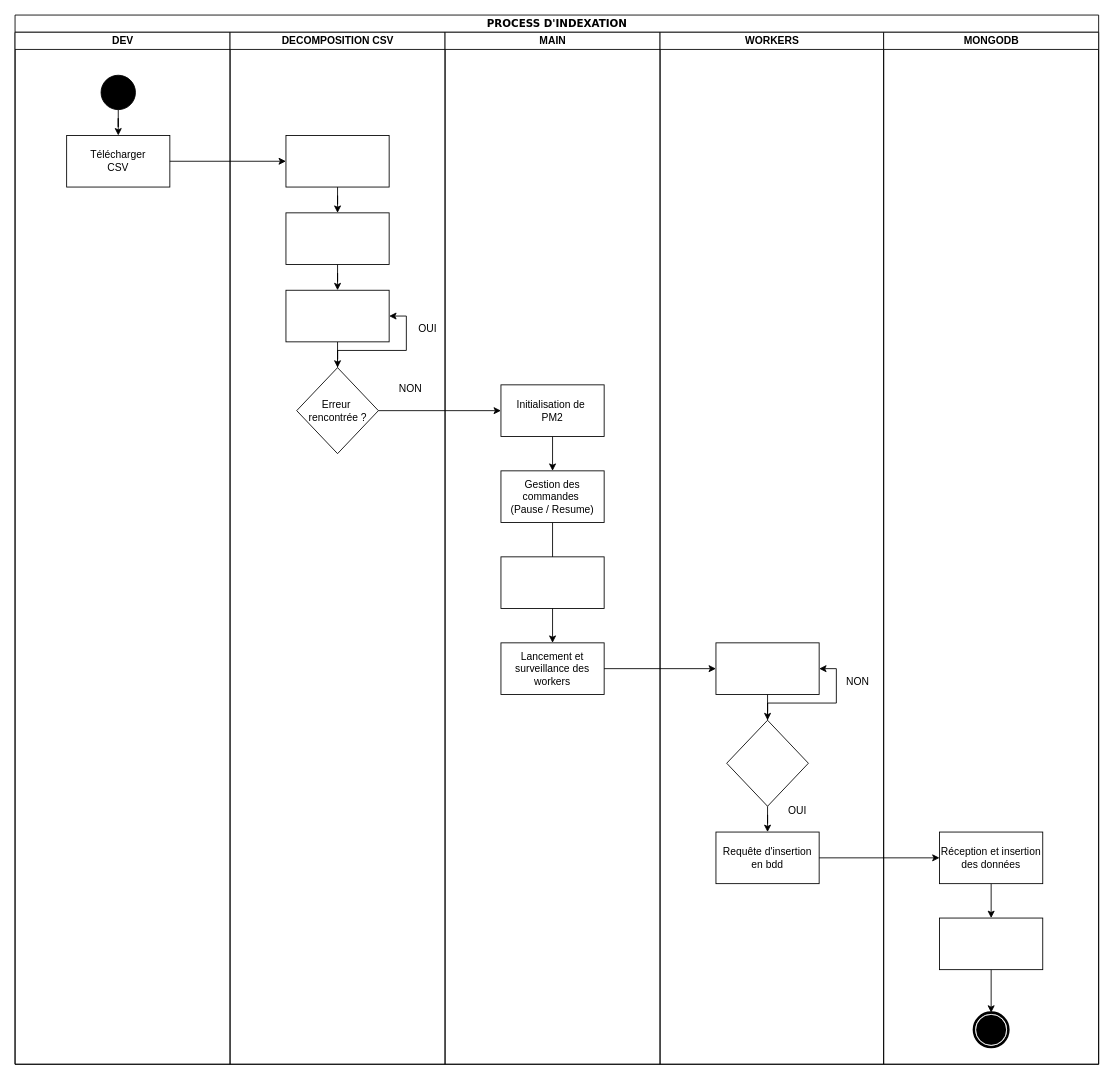
Image size: 1114x1079. Some labels were removed from this diagram. Each missing label, with the centre of its shape:
"Assignation des fichiers par workers" belongs at pixel 552 582.
"Création dossier 'data'" belongs at pixel 337 161.
"Donnée valide ?" belongs at pixel 767 762.
"Exécution du script" belongs at pixel 337 315.
"Importer CSV dans 'data'" belongs at pixel 337 238.
"Indexation des données" belongs at pixel 991 943.
"Parsing et validation des données du CSV" belongs at pixel 767 668.
